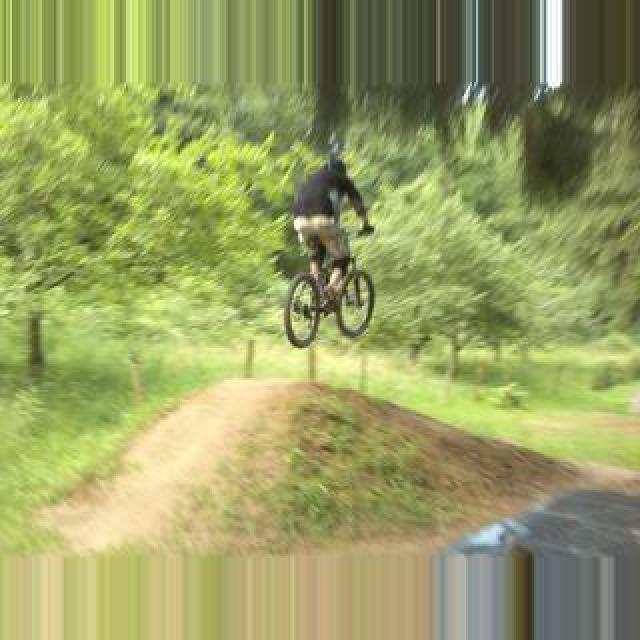MC-Bike: (292, 158, 374, 302)
Person: (282, 246, 376, 348)
